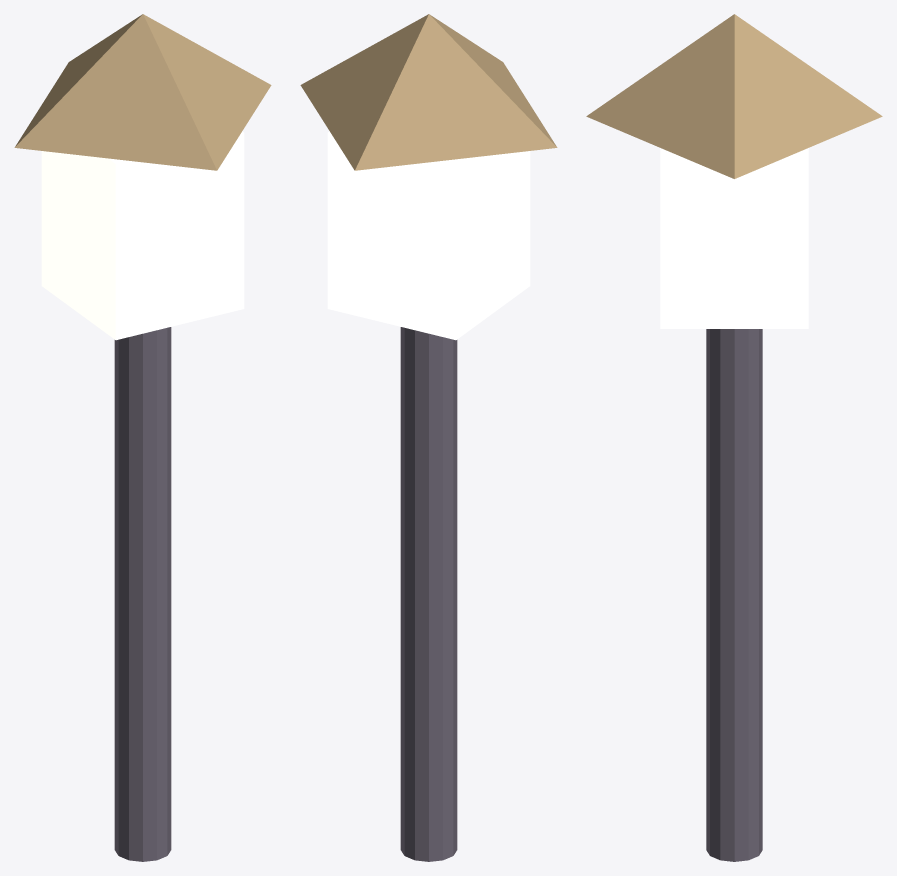
The model's file is warm_lantern.glb.
The picture shows the model from 3 angles, left to right: view 1: azimuth 30°, elevation 25°; view 2: azimuth 150°, elevation 25°; view 3: azimuth 270°, elevation 25°; orthographic projection.
Visible parts, largest first — view 1: glow, post, cap; view 2: glow, post, cap; view 3: post, cap, glow.
Part boxes in pixels (left/top/right/bottom): glow: left=41, top=131, right=244, bottom=340; post: left=114, top=327, right=171, bottom=861; cap: left=14, top=14, right=271, bottom=170; glow: left=327, top=131, right=530, bottom=340; post: left=400, top=327, right=457, bottom=861; cap: left=300, top=14, right=557, bottom=170; post: left=706, top=329, right=762, bottom=861; cap: left=586, top=14, right=882, bottom=178; glow: left=660, top=148, right=808, bottom=328.
Size of the model in its own units: 0.84 by 2.61 by 0.84.
